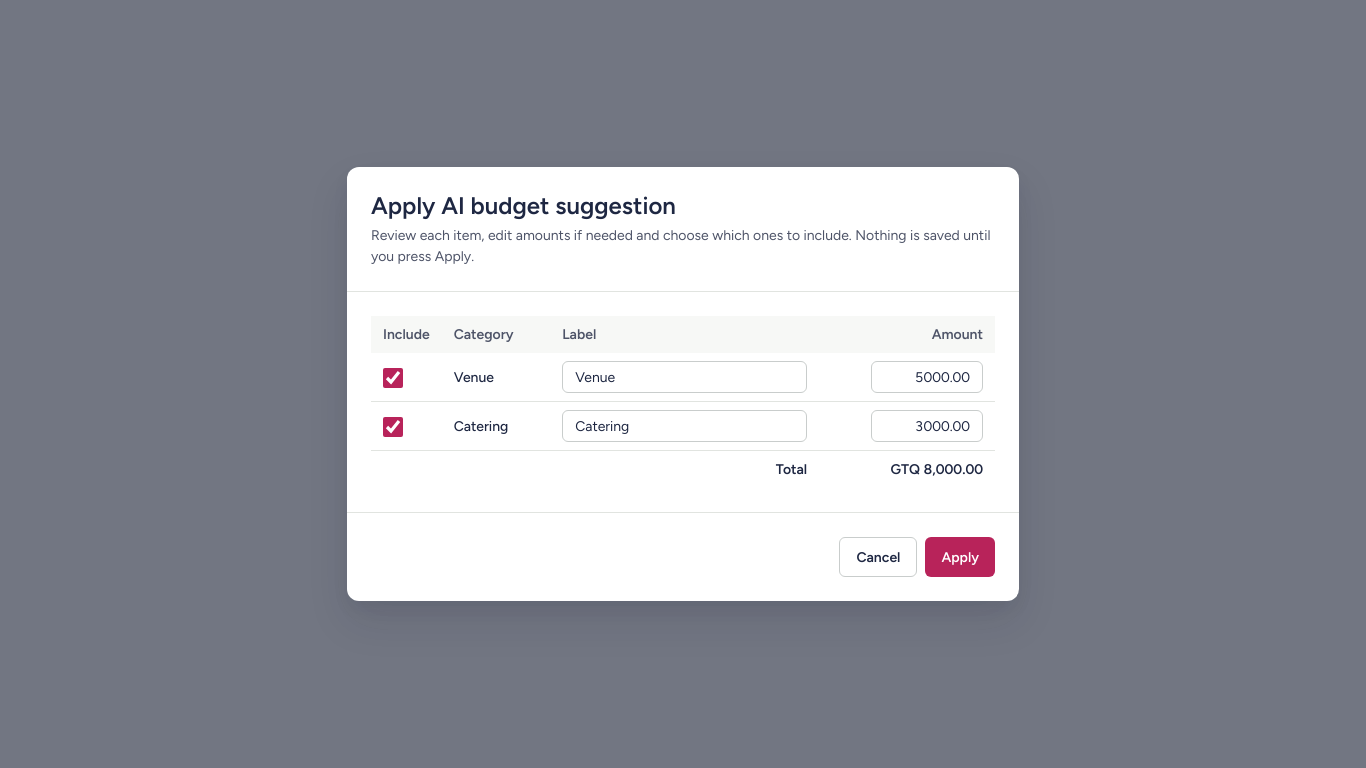
Test: US-037 UT-12-FE — <ApplyAIBudgetDialog> › deshabilita "Aplicar" cuando 0 filas incluidas
This screenshot has width=1366, height=768.
# Desmarcar ambas filas.
Click the checkbox next to "Venue": {"x": 393, "y": 378} [383, 368, 403, 388]
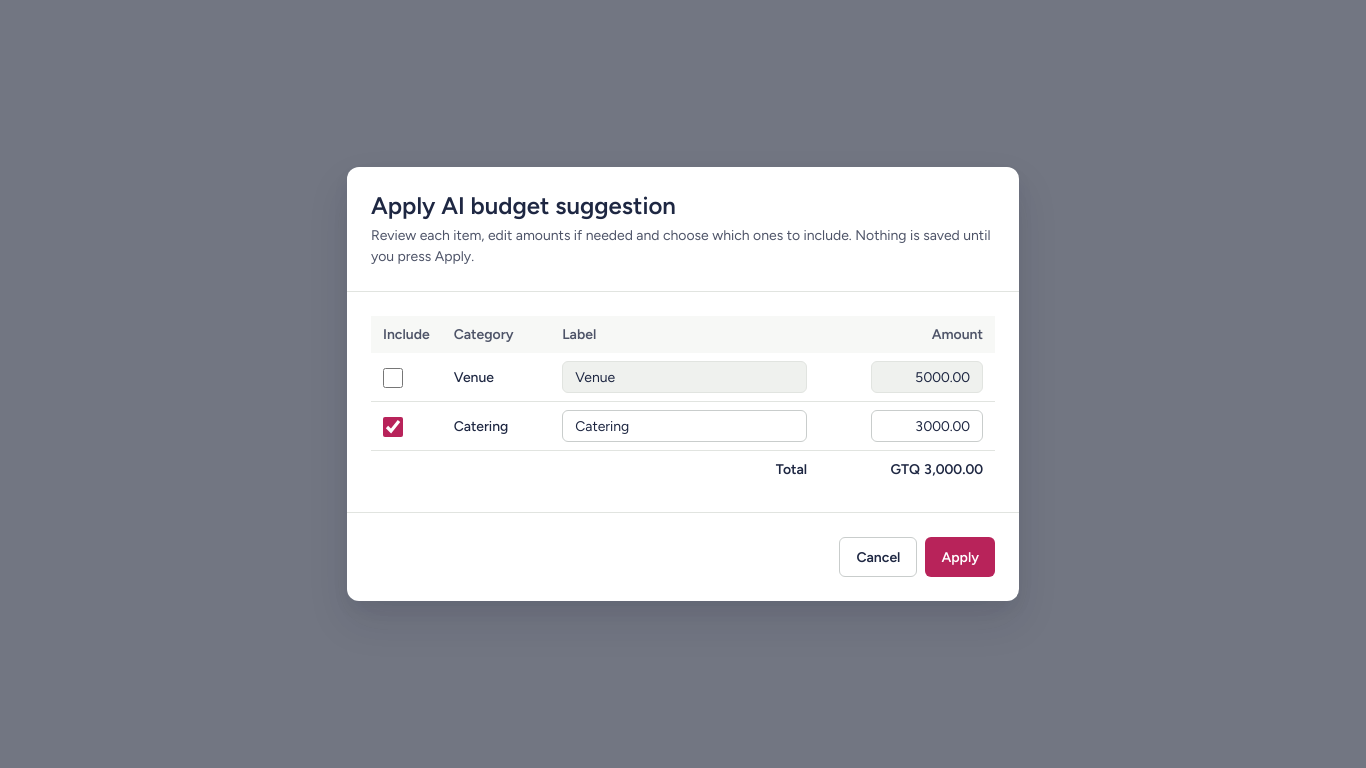
Click the checkbox next to "Catering": {"x": 393, "y": 427} [383, 417, 403, 437]
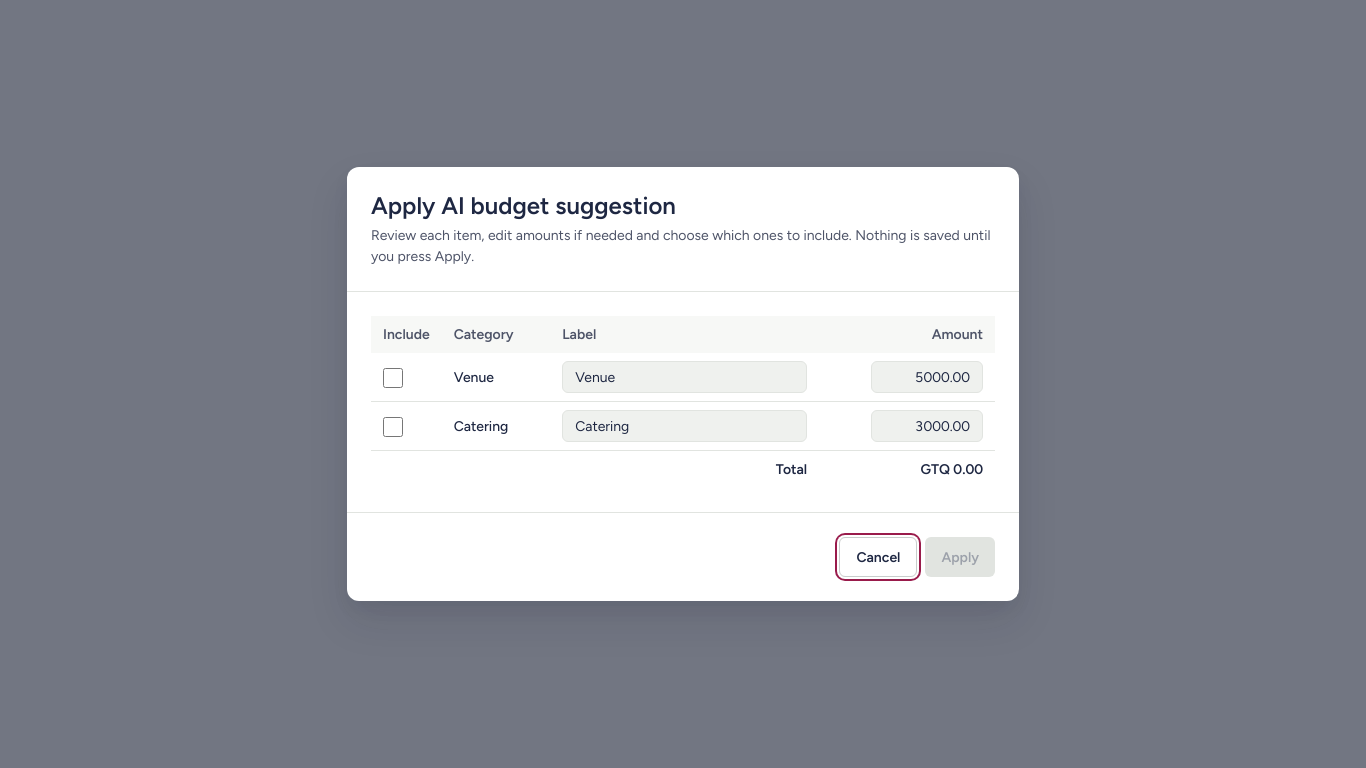
Check: the button "Apply" is disabled, box [925, 537, 995, 577]
